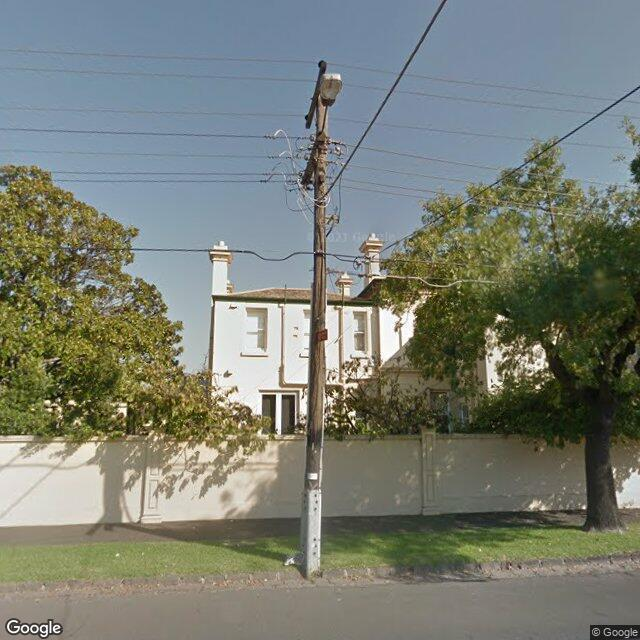HV-transmission: (304, 60, 324, 121)
crossarm: (301, 131, 326, 186), (306, 62, 326, 129)
streetlight: (315, 74, 343, 141)
timber-pole: (298, 93, 327, 578)
